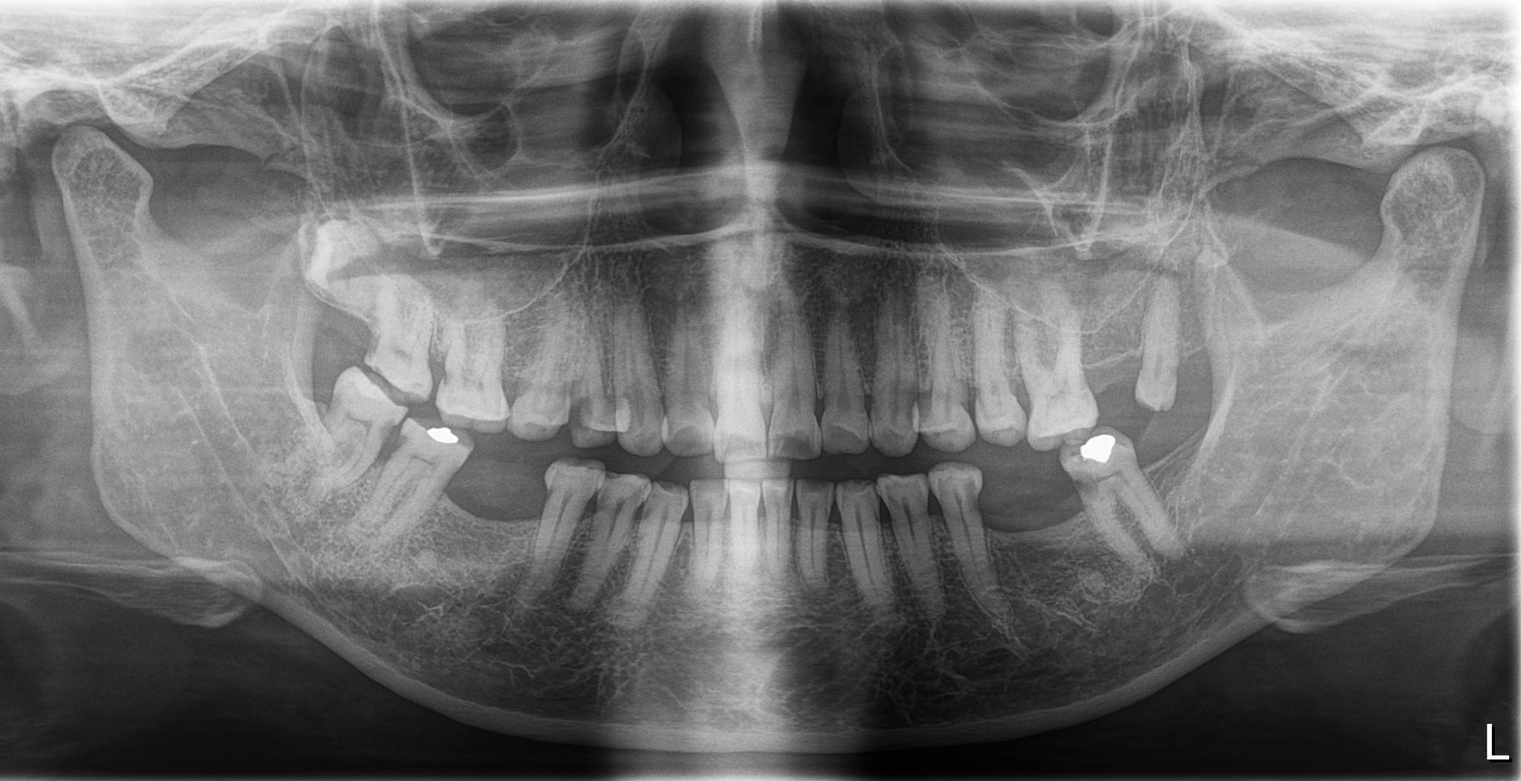Missing Tooth: (984, 468, 1073, 590), (462, 457, 549, 580), (1159, 423, 1231, 534), (1075, 297, 1139, 404), (293, 284, 369, 370)
